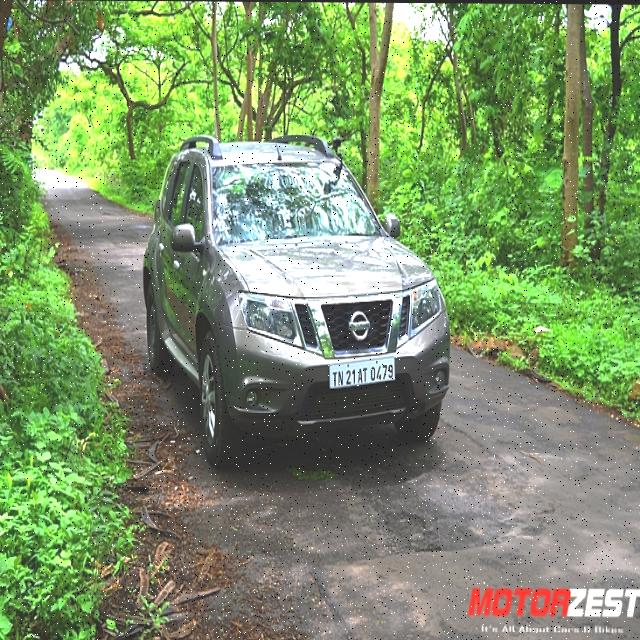plate: (330, 354, 396, 395)
